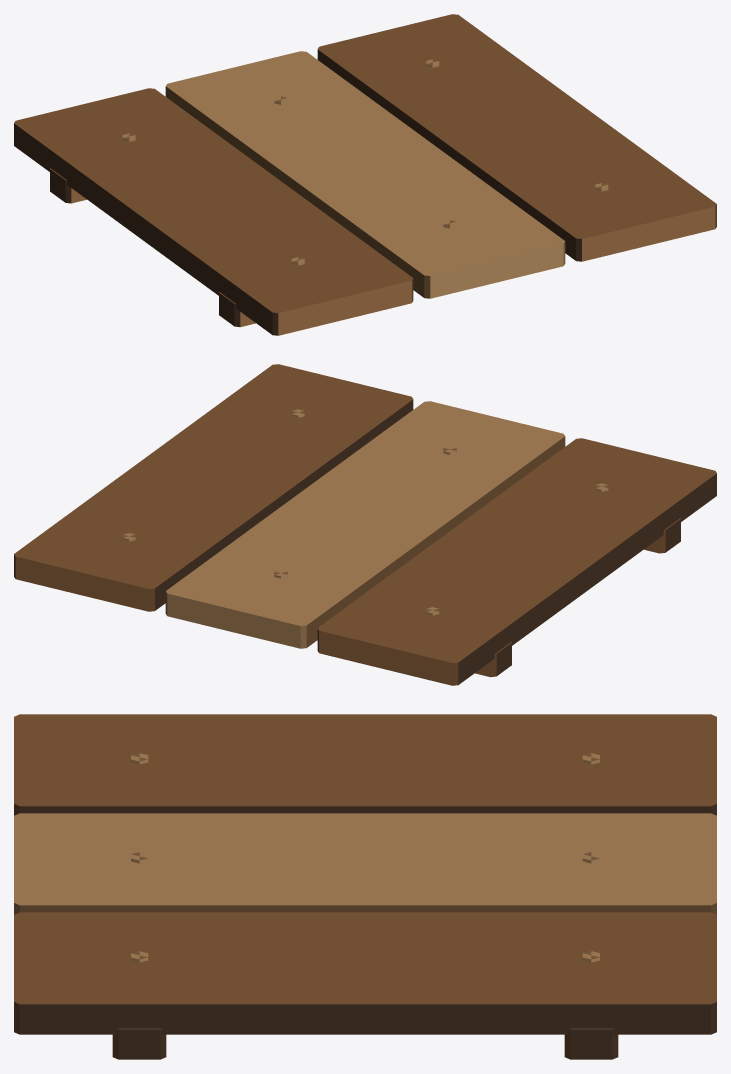
File: bridge.fbx
The picture shows the model from 3 angles, top to bottom: view 1: azimuth 30°, elevation 25°; view 2: azimuth 150°, elevation 25°; view 3: azimuth 270°, elevation 25°; orthographic projection. The views are drawn at different scales.
Visible parts, largest first — view 1: bridge_body; view 2: bridge_body; view 3: bridge_body.
Boxes of the visible parts, left/top/right/bottom form: bridge_body: left=14, top=14, right=716, bottom=335; bridge_body: left=14, top=364, right=716, bottom=685; bridge_body: left=14, top=714, right=716, bottom=1059.
Size of the model in its own units: 4.12 by 0.38 by 4.2.
1 material, 1 textured.
